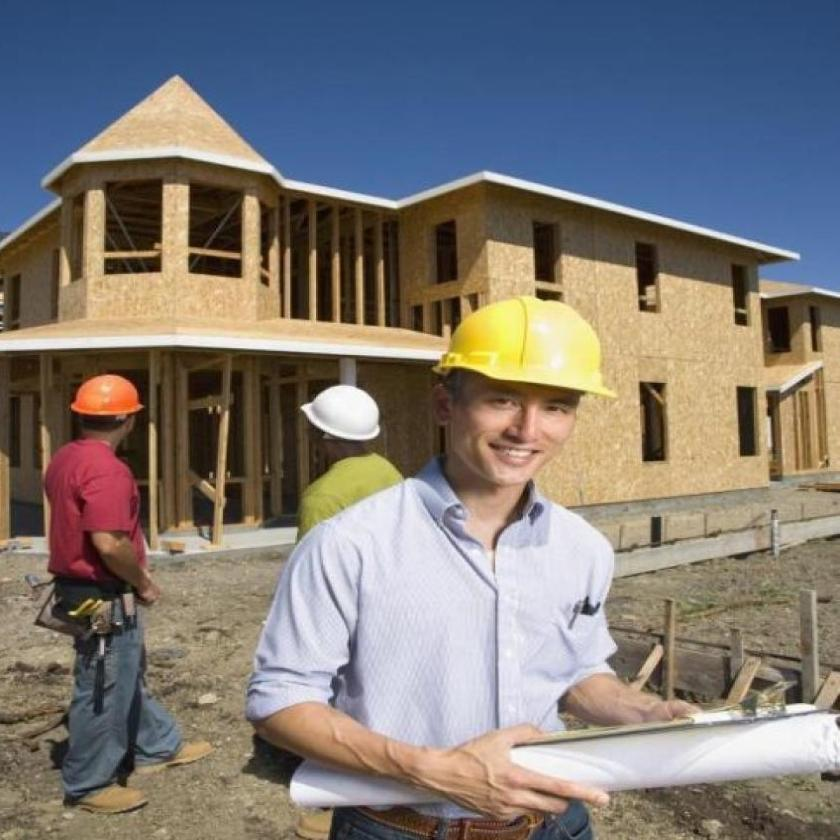Con_casco: (439, 286, 599, 513), (301, 377, 380, 459)
